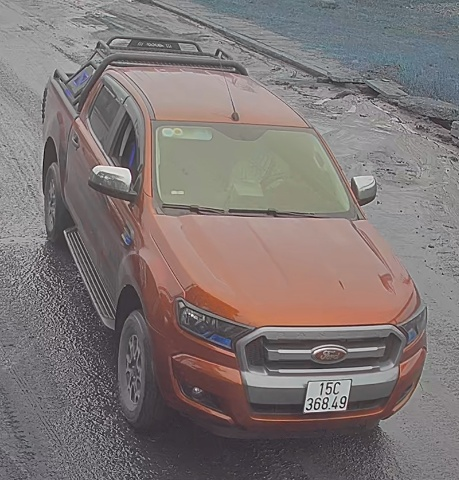vehicle plate: (305, 379, 350, 412)
